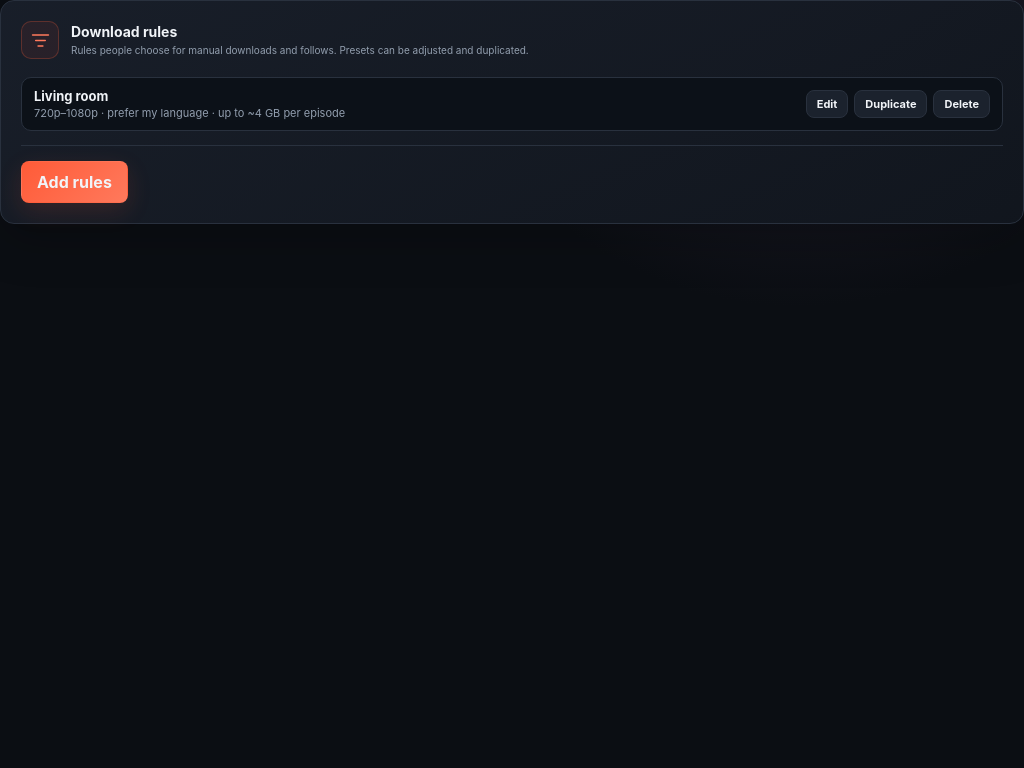
it: clears and disables fallback for my-language-only audio
Click the button "Edit": x=827, y=104 x1=806 y1=90 x2=848 y2=118
(page scrolled)
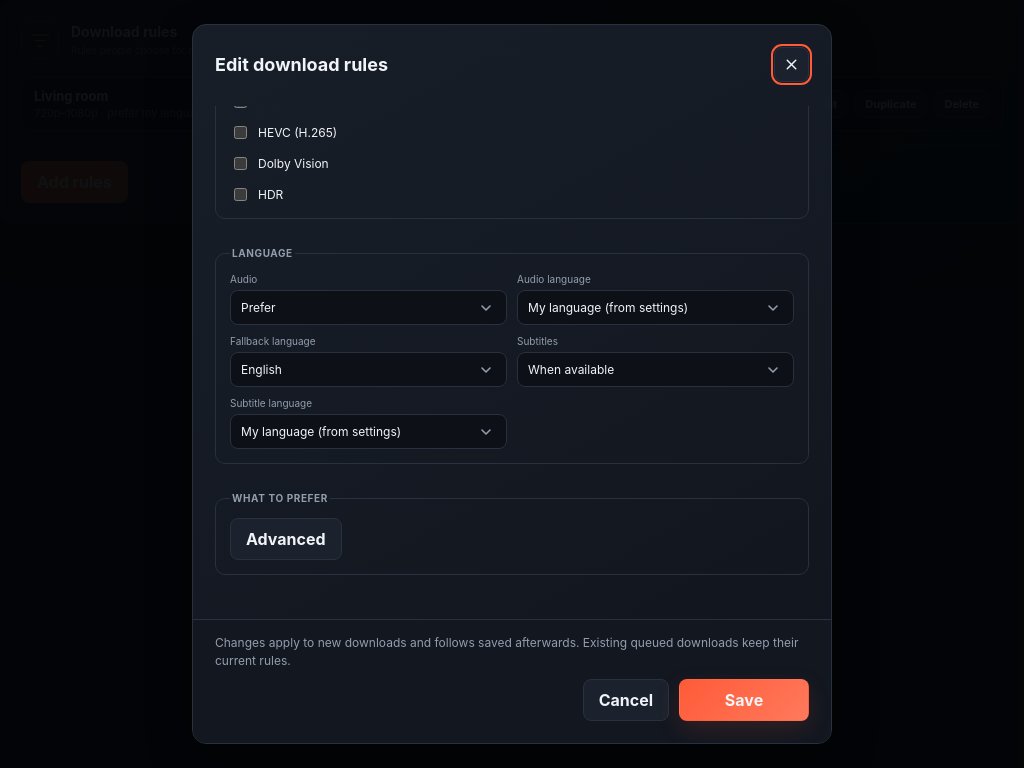
Select "English" in the dropdown named "Fallback language": x=368, y=370 x1=230 y1=352 x2=507 y2=387
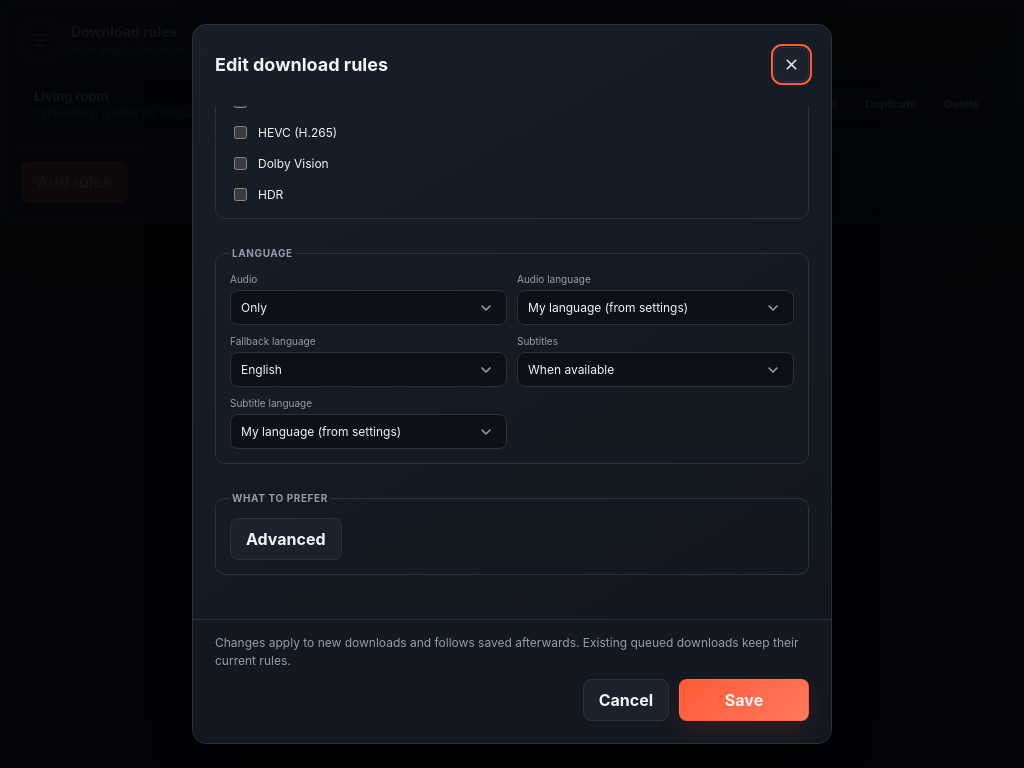
Select "Only" in the dropdown labelled "Audio": x=368, y=308 x1=230 y1=290 x2=507 y2=325
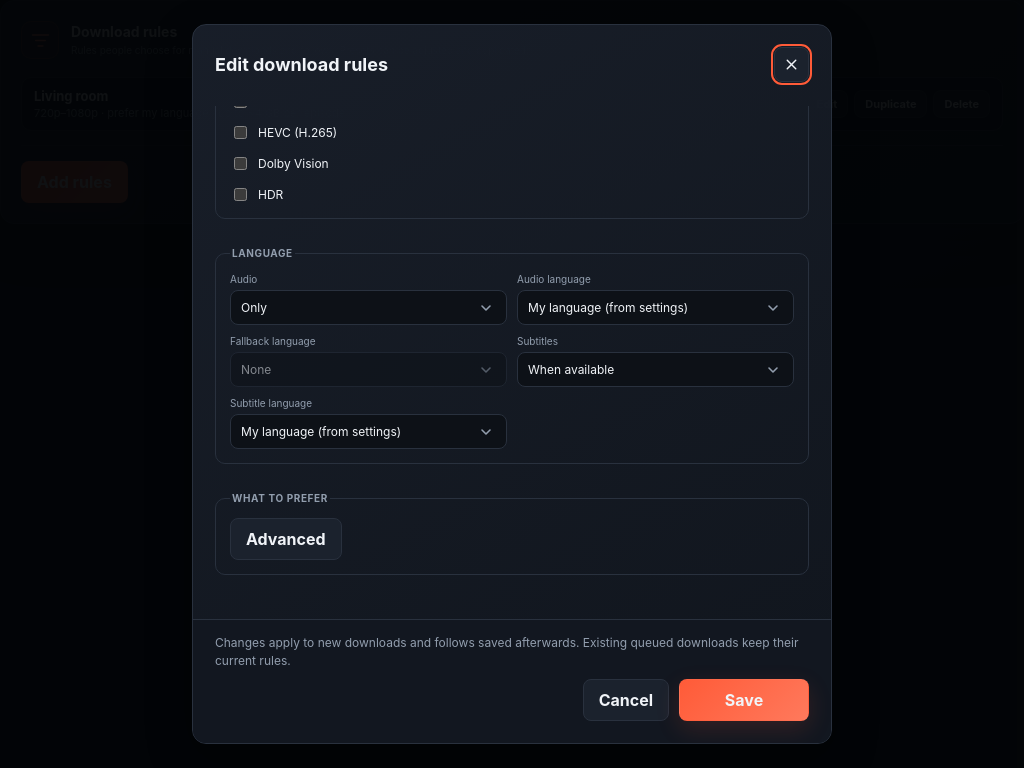
Check: the dropdown named "Fallback language" is disabled, box x1=230 y1=352 x2=507 y2=387
